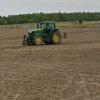Tractor: (16, 17, 80, 53)
